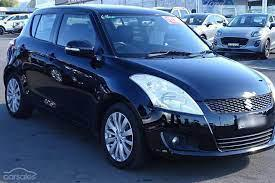Hatchback: (1, 2, 275, 167), (210, 12, 274, 59), (184, 12, 229, 42), (0, 13, 28, 35), (158, 6, 192, 22)
